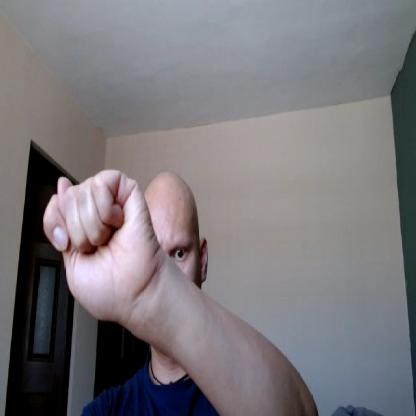T: (43, 168, 157, 319)
